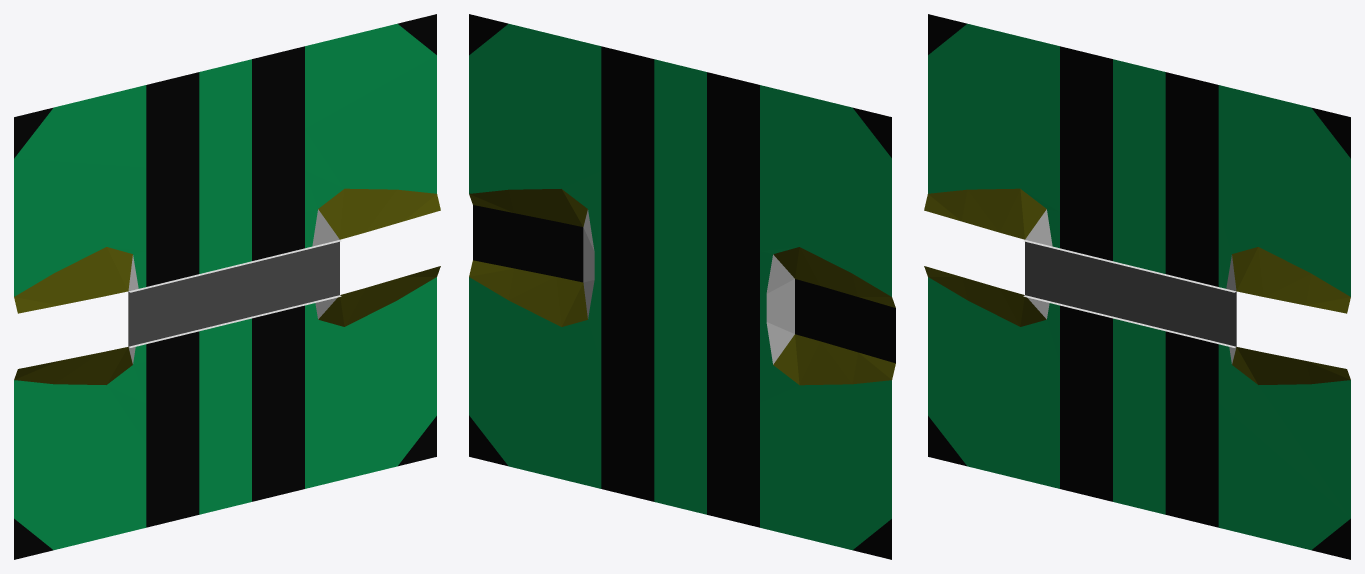
Rendered from tiles1_57.obj.
3 views of the same model, side by side, from view 1: azimuth 30°, elevation 25°; view 2: azimuth 150°, elevation 25°; view 3: azimuth 330°, elevation 25° (orthographic).
Visible parts, largest first — view 1: tiles1_57; view 2: tiles1_57; view 3: tiles1_57.
Boxes of the visible parts, x1,y1,x2,y2 form: tiles1_57: (14,14,440,559); tiles1_57: (469,14,895,559); tiles1_57: (924,14,1350,559).
Size of the model in its own units: 4.1 by 4.1 by 0.177.
